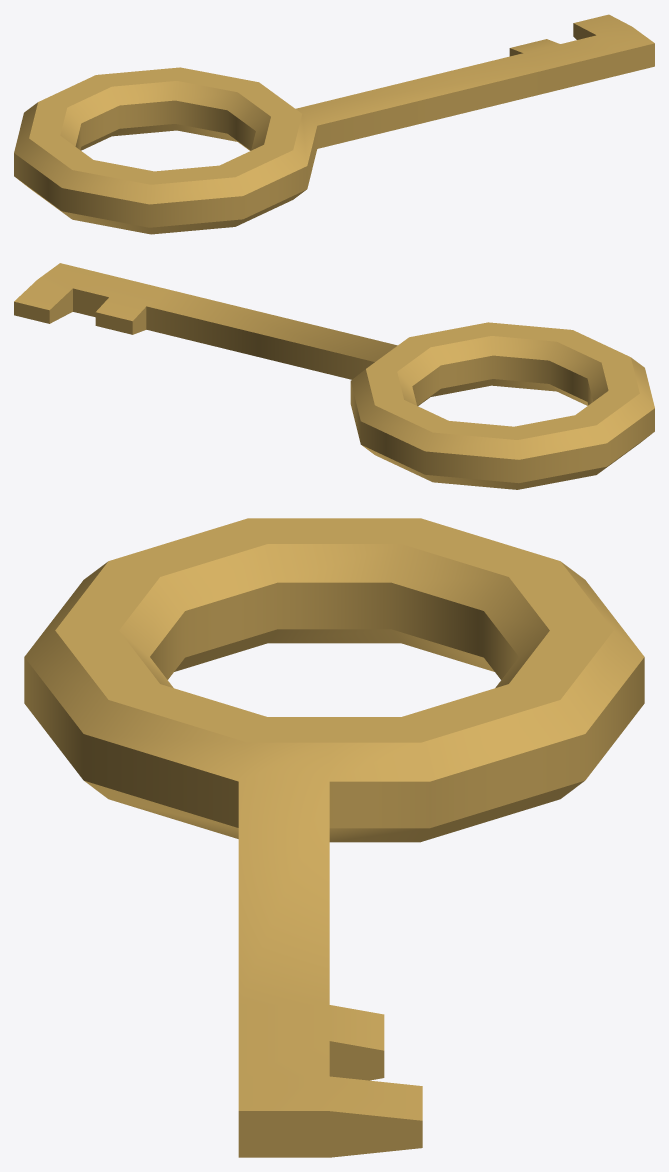
File: safe_key.fbx
The picture shows the model from 3 angles, top to bottom: view 1: azimuth 30°, elevation 25°; view 2: azimuth 150°, elevation 25°; view 3: azimuth 270°, elevation 25°; orthographic projection. The views are drawn at different scales.
Visible parts, largest first — view 1: Key; view 2: Key; view 3: Key.
Boxes of the visible parts, x1,y1,x2,y2 form: Key: [14, 14, 654, 234]; Key: [14, 263, 654, 489]; Key: [24, 518, 644, 1157].
Bounding box in the file's own units: 0.1144 × 0.00916 × 0.0518.
